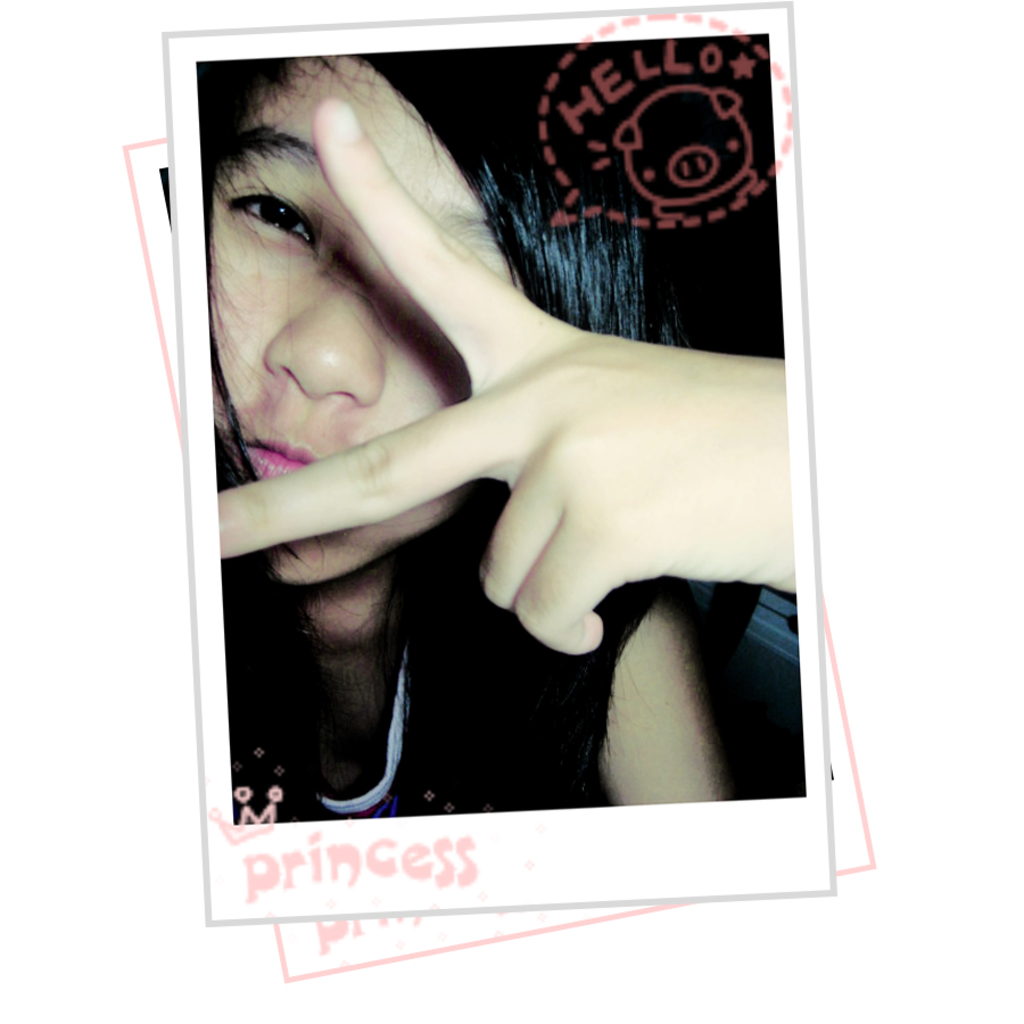Human-face: (206, 46, 522, 581)
